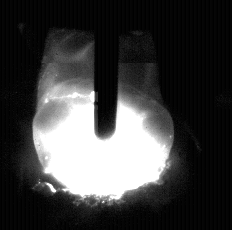arame: (95, 0, 117, 140)
poca: (33, 0, 175, 230)
